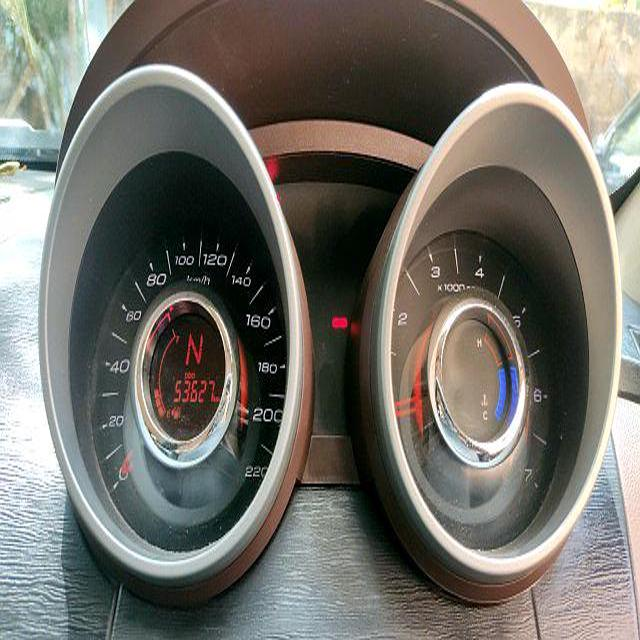odometer: (168, 373, 222, 407)
